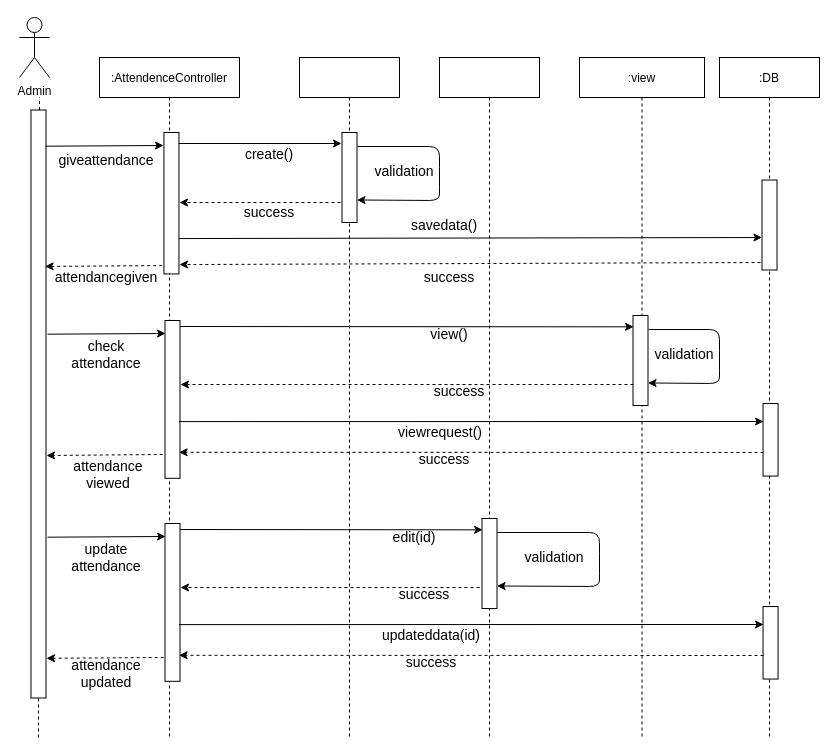
Image size: 837x756. Some labels were removed from this diagram. Here are the shapes that lost their labels. From the top down, the box of each, then its label:
(298, 56, 400, 738): :add
(438, 56, 540, 738): :update
